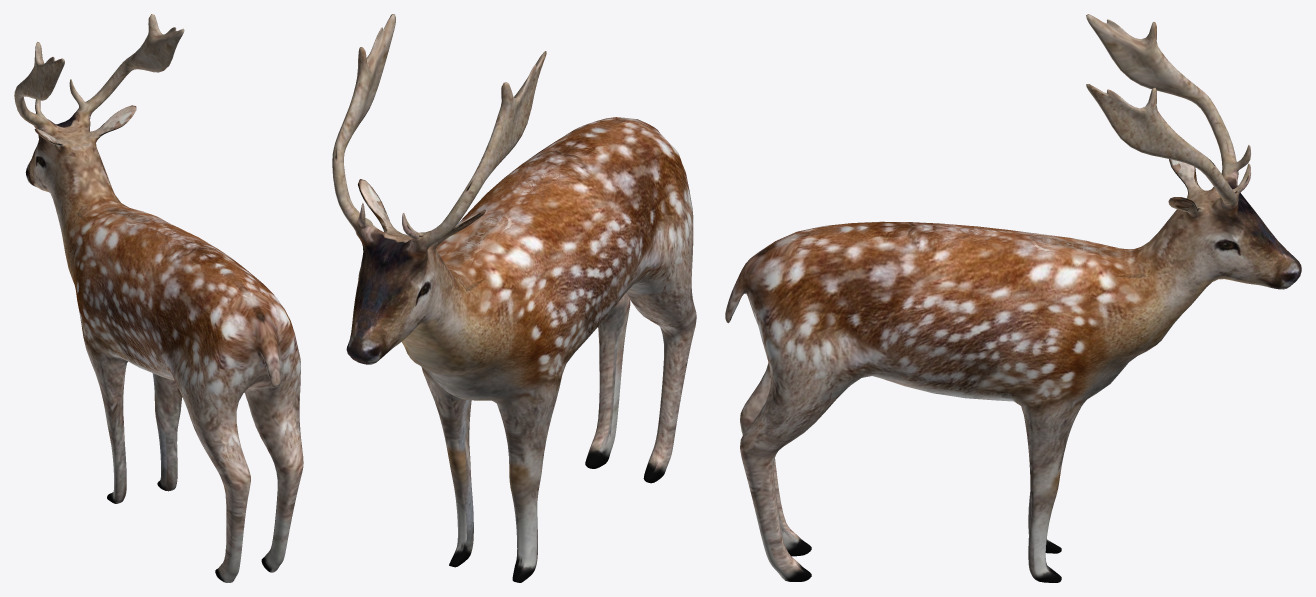
The model's file is deer.fbx.
3 views of the same model, side by side, from view 1: azimuth 30°, elevation 25°; view 2: azimuth 150°, elevation 25°; view 3: azimuth 270°, elevation 25° (orthographic). The views are drawn at different scales.
Visible parts, largest first — view 1: Plane; view 2: Plane; view 3: Plane.
Part boxes in pixels (box(x1,y1,x2,y2)): Plane: box(14, 14, 303, 582); Plane: box(332, 14, 696, 582); Plane: box(725, 14, 1301, 582).
Bounding box in the file's own units: 134 × 452 × 455.
1 material, 1 textured.
